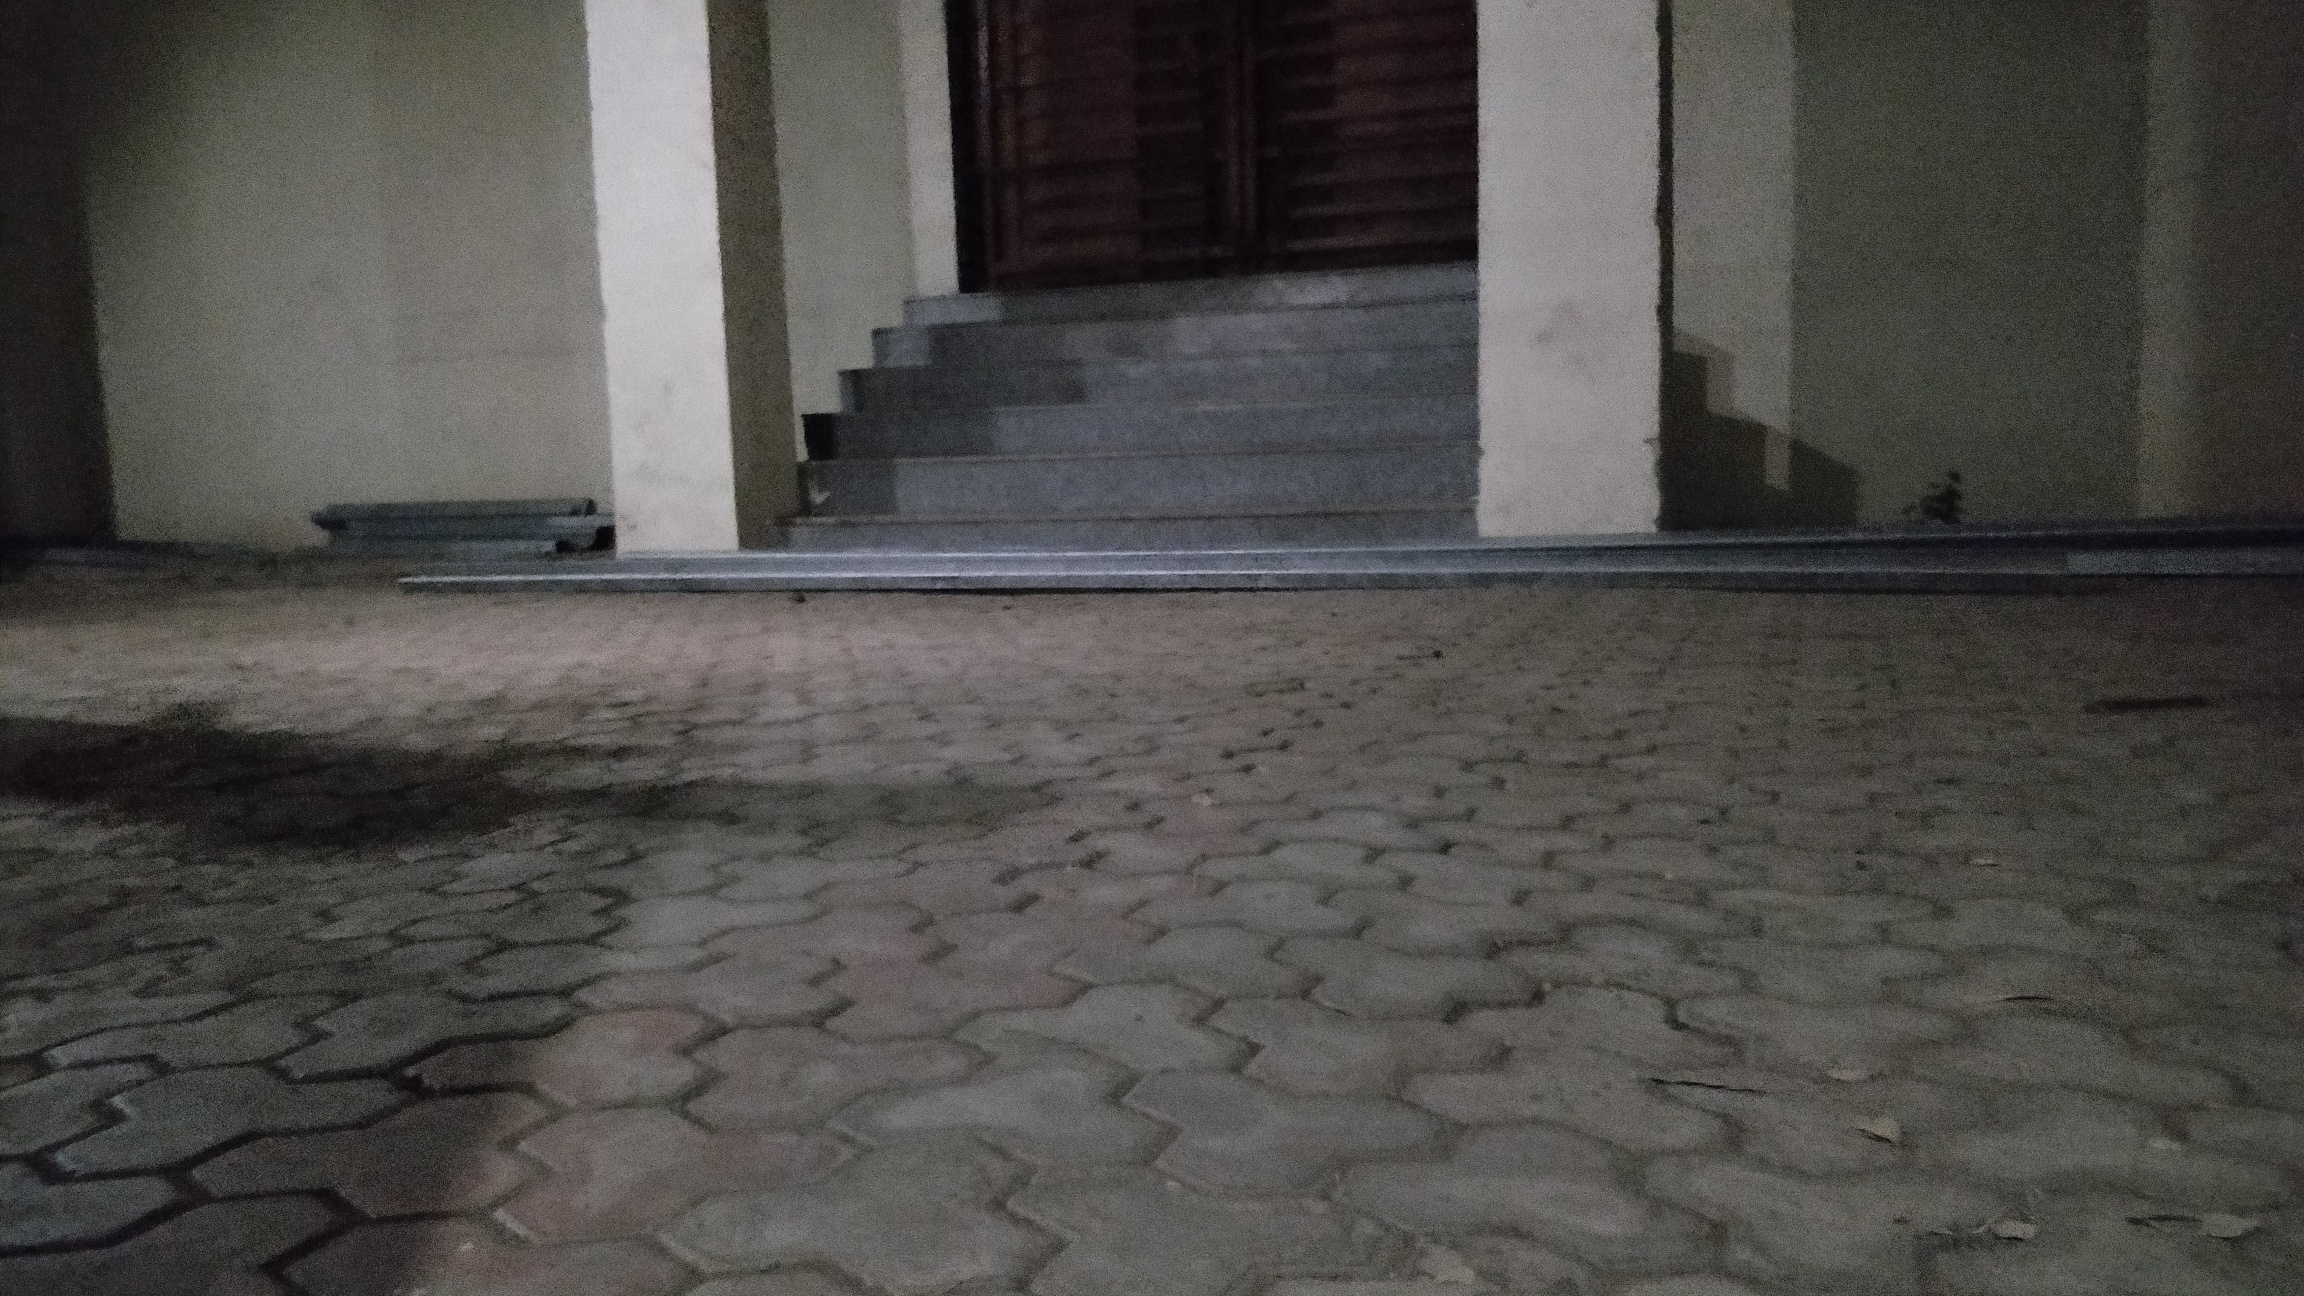stairs_up: (798, 293, 1484, 530)
